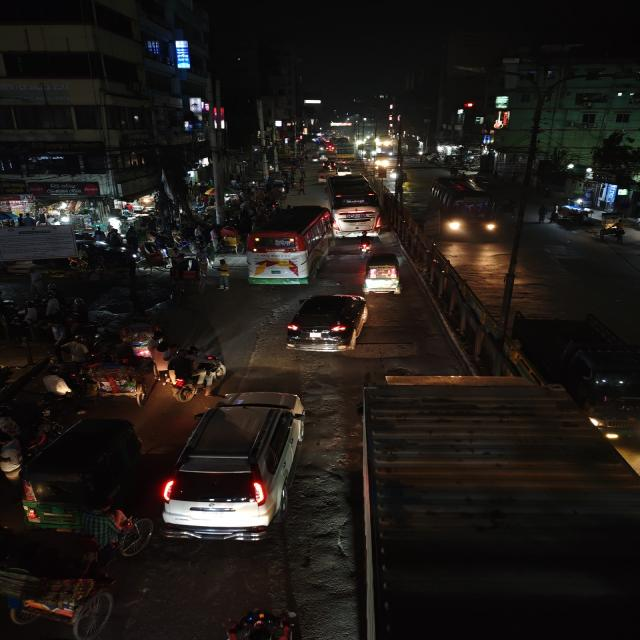bus: (242, 204, 335, 288), (429, 175, 500, 242)
car: (165, 391, 311, 549), (283, 291, 373, 355)
cng: (20, 415, 146, 539), (360, 251, 405, 295), (388, 166, 406, 182), (335, 164, 352, 175)
motorcycle: (164, 344, 218, 400), (355, 234, 375, 256)
pedestrian: (40, 369, 72, 401), (210, 259, 237, 292), (534, 204, 550, 224), (293, 180, 312, 196)
pickup_van: (509, 313, 640, 437)
rickshaw: (0, 524, 139, 639), (83, 356, 155, 406), (118, 311, 167, 345), (585, 216, 627, 244)
truck: (354, 368, 638, 634), (326, 174, 385, 240)
